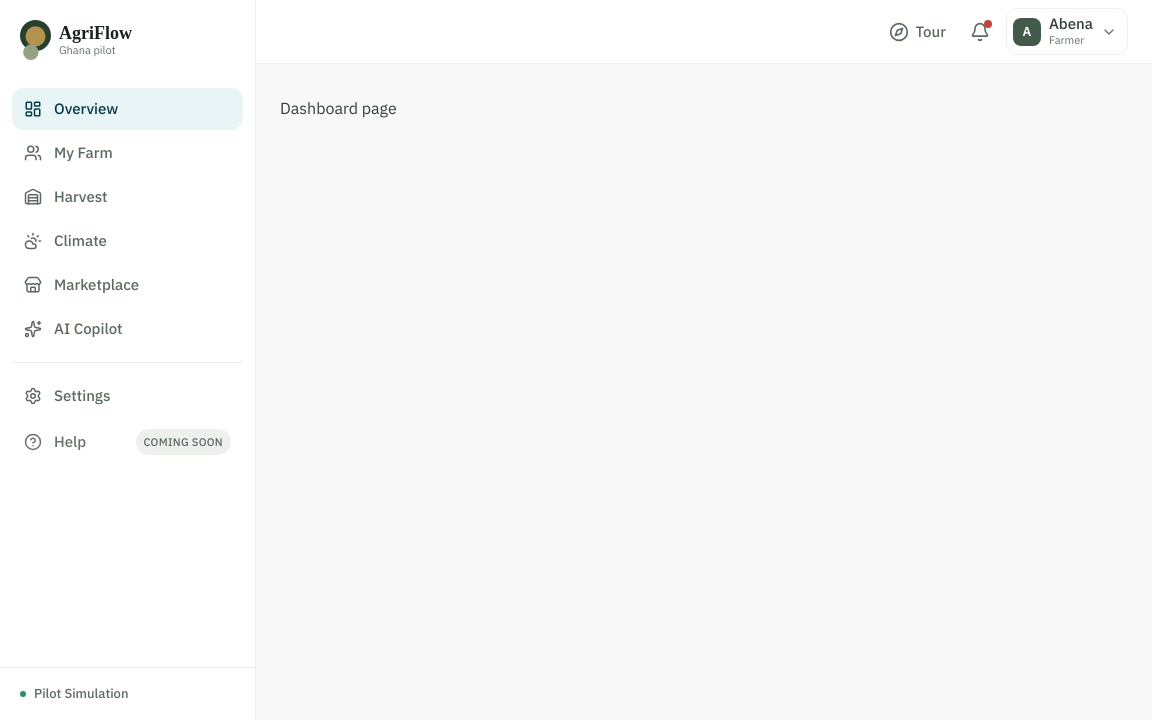
Test: the demo tour › doesn't open again once seen, but the Tour button brings it back
The image size is (1152, 720).
Earlier steps of the test are not shown.
Click the button "Tour": coordinates (918, 32) [881,12,954,50]
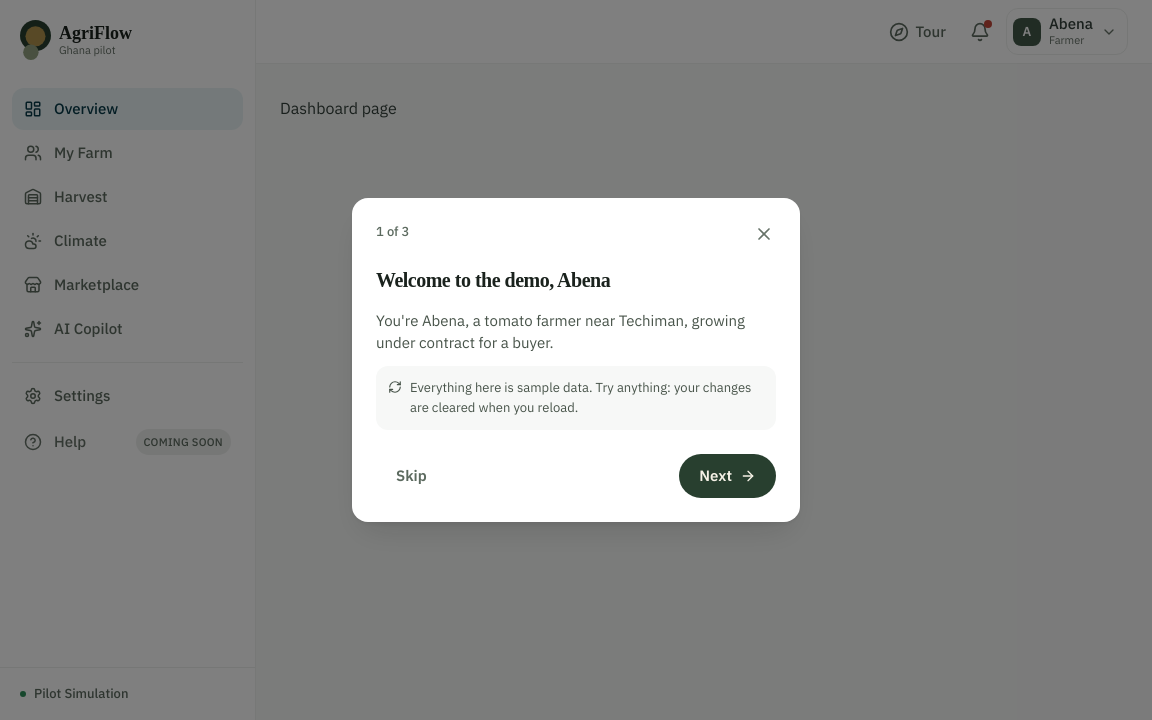
Now the dialog "Welcome to the demo, Abena" is shown, box [352,198,800,522]
